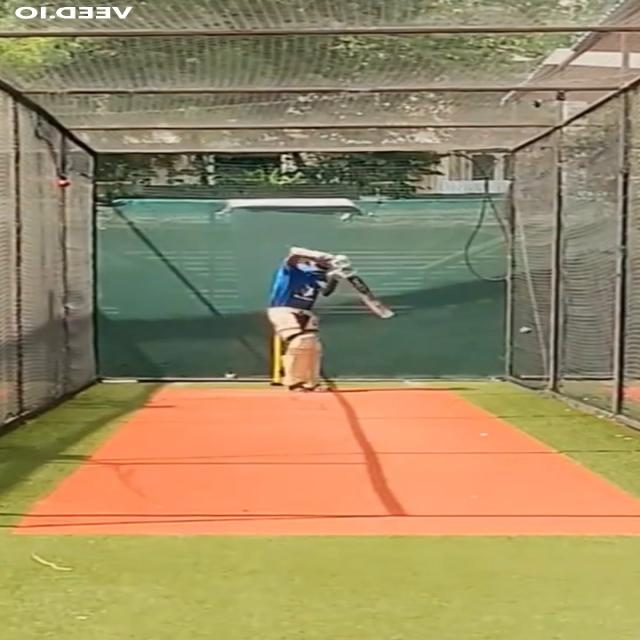ball: (518, 326, 534, 336)
